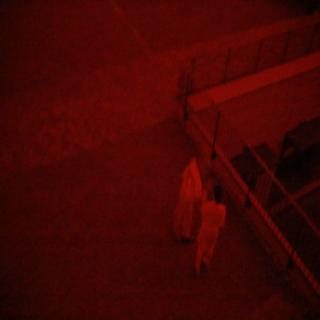person: (169, 139, 212, 246), (197, 183, 234, 274)
